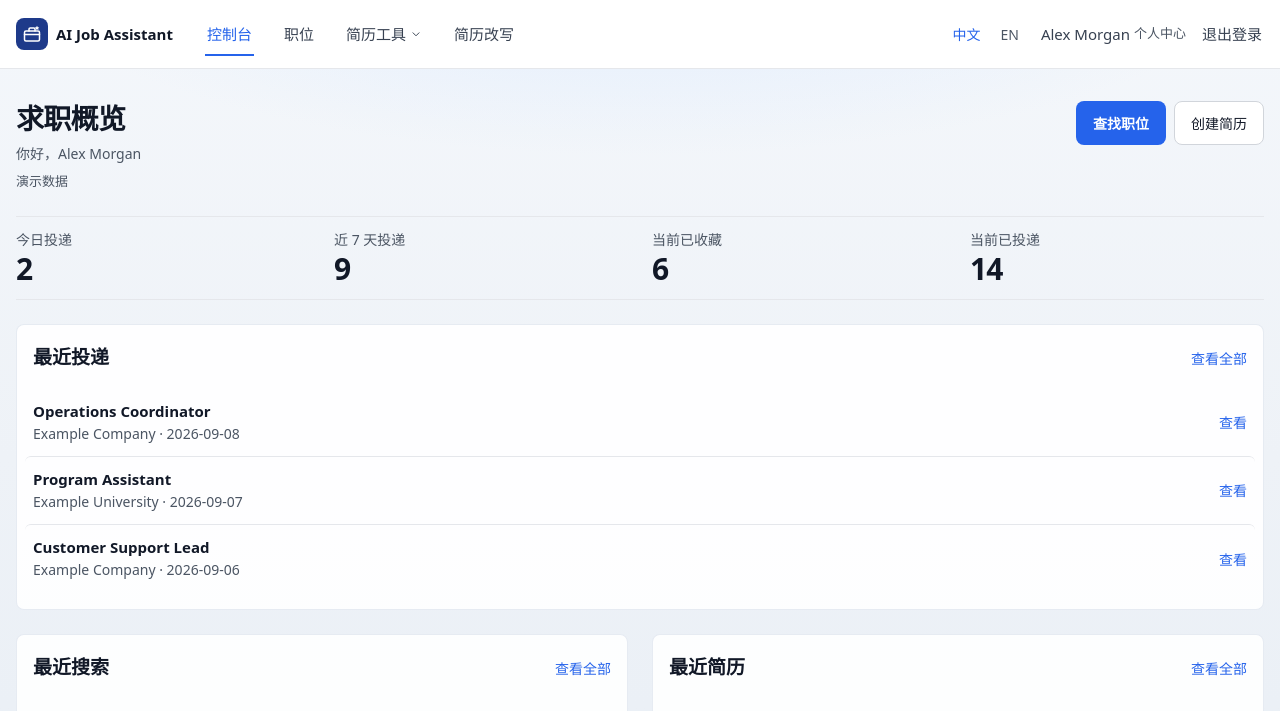
Test case: design preview (DEV prototype) › keeps English dashboard copy on the same prototype identity
The image size is (1280, 711).
Click the button "EN" at (1010, 34), box left=992, top=12, right=1027, bottom=56
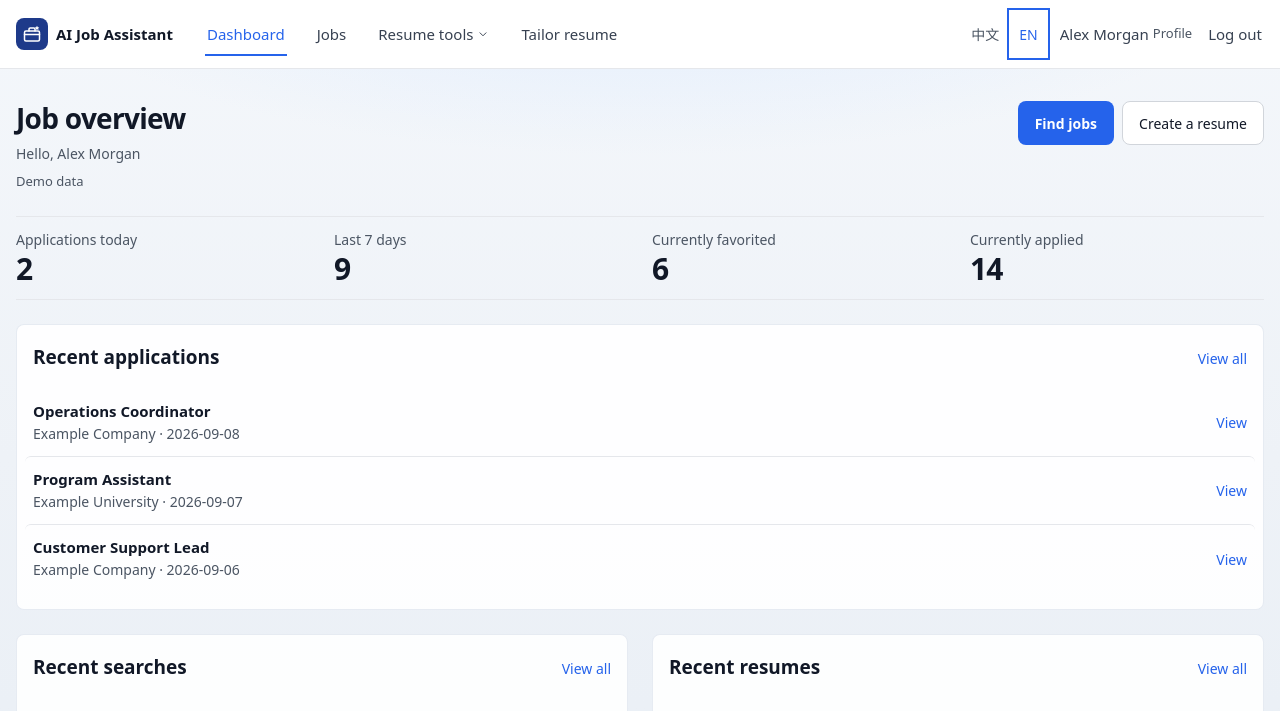
Expected: the heading "Job overview" is shown, left=16, top=101, right=186, bottom=136
Expected: the text "Hello, Alex Morgan" is shown, left=16, top=144, right=140, bottom=163
Expected: the text "Demo data" is shown, left=16, top=172, right=84, bottom=192
